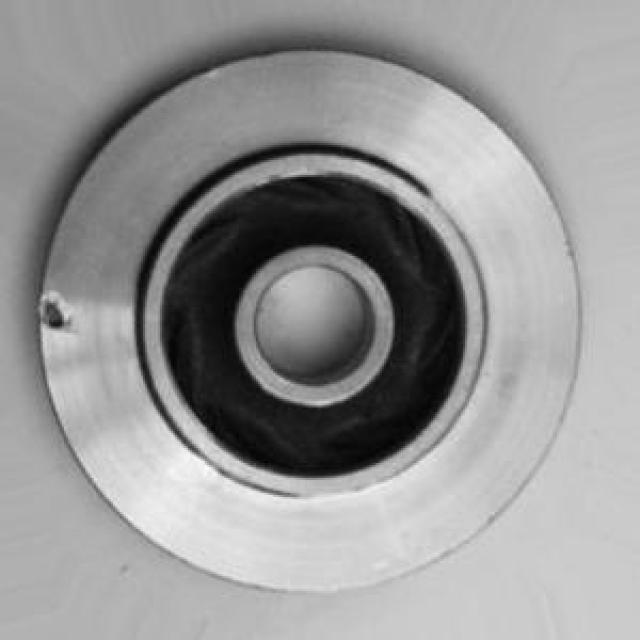Defect: (41, 288, 73, 340)
